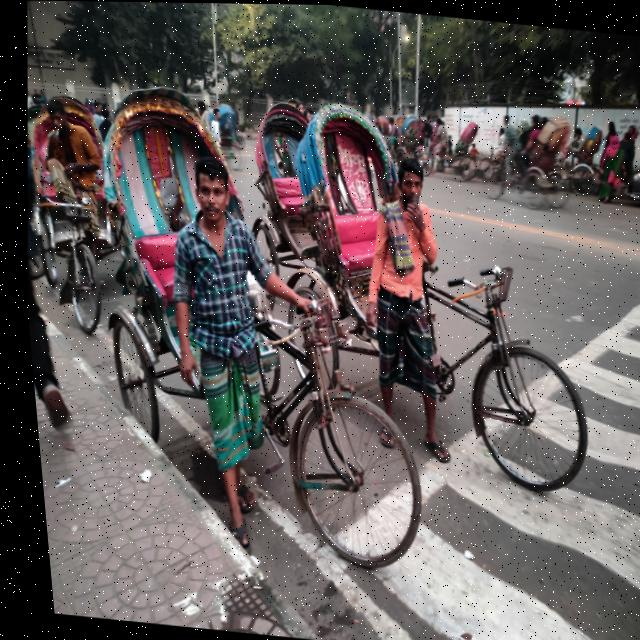rikshaw: (55, 86, 429, 613), (265, 96, 591, 508)
